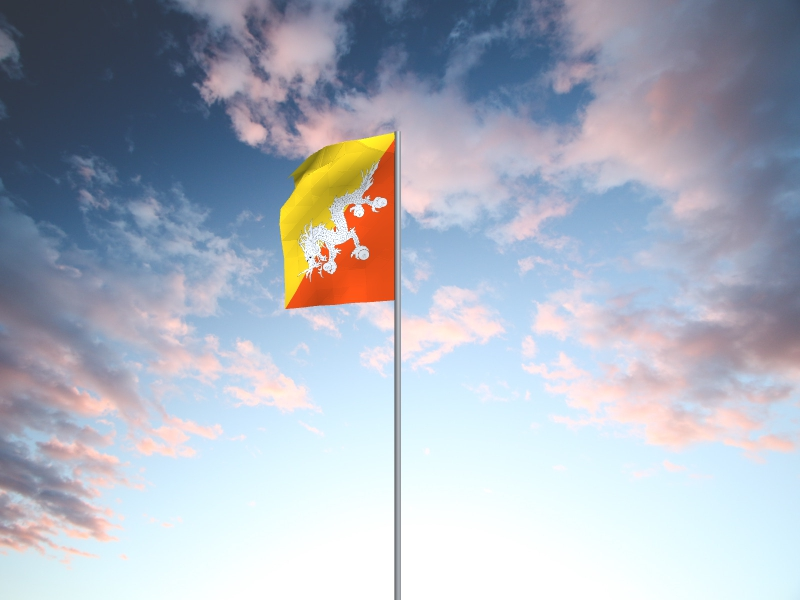bt: (279, 133, 395, 311)
